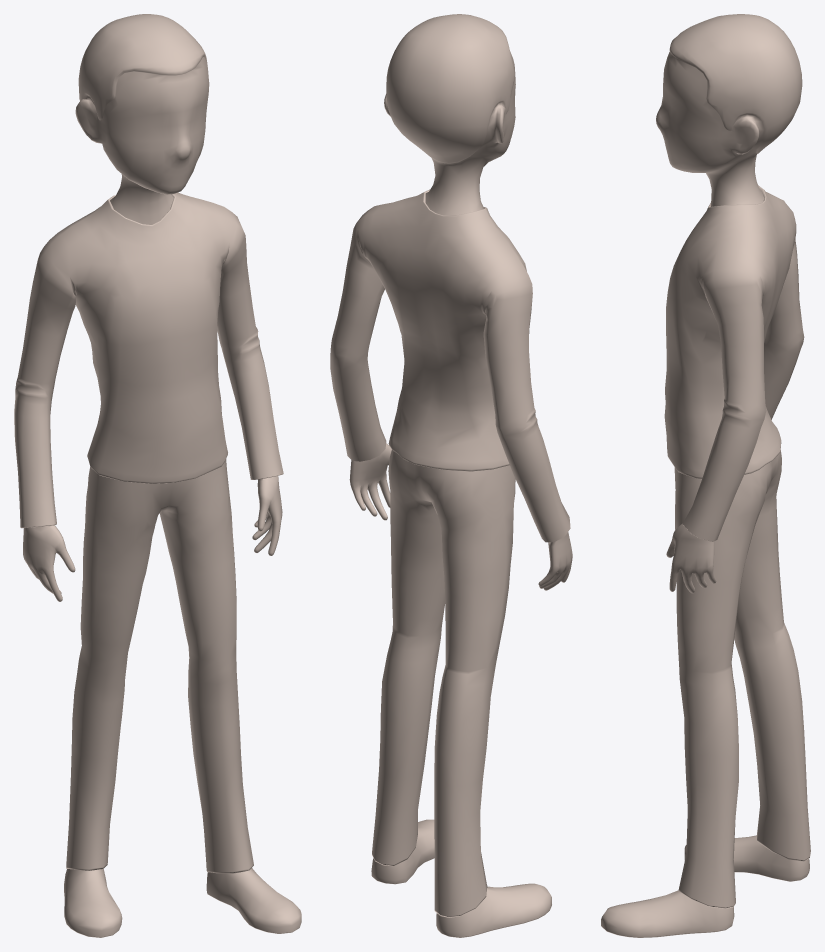
File: man.glb
3 renders of one model, left to right at view 1: azimuth 30°, elevation 25°; view 2: azimuth 150°, elevation 25°; view 3: azimuth 270°, elevation 25°, orthographic.
Parts seen in each view (by area): view 1: mesh_id34; view 2: mesh_id34; view 3: mesh_id34.
Boxes of the visible parts, <box> form: mesh_id34: <box>14,14,301,937</box>; mesh_id34: <box>330,14,572,937</box>; mesh_id34: <box>601,14,810,937</box>.
Size of the model in its own units: 0.0563 by 0.1989 by 0.0436.
Materials: 1 (1 with a texture image).
